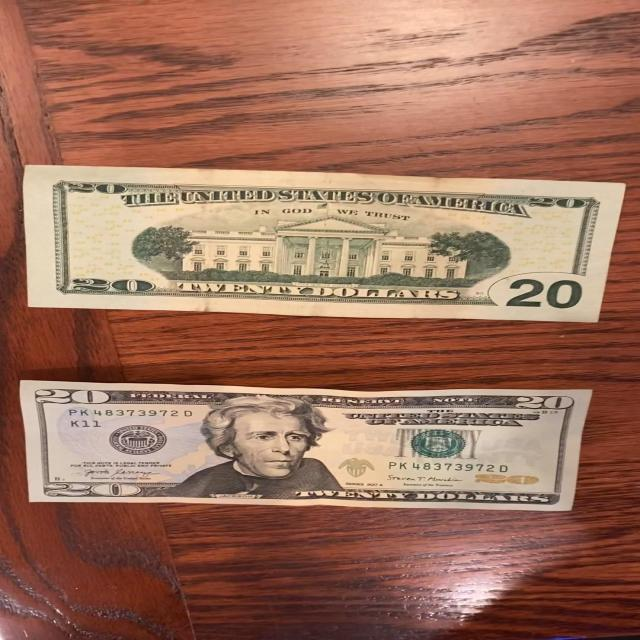20-Back: (14, 162, 628, 326)
20-Front: (10, 366, 603, 524)
